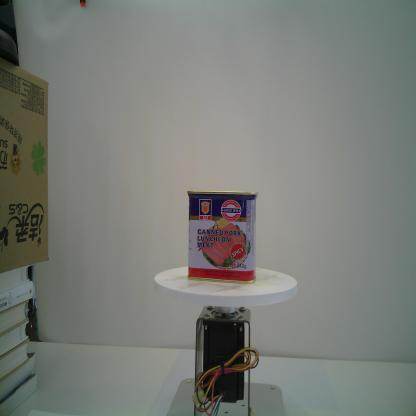Canned Food: (186, 189, 257, 286)
